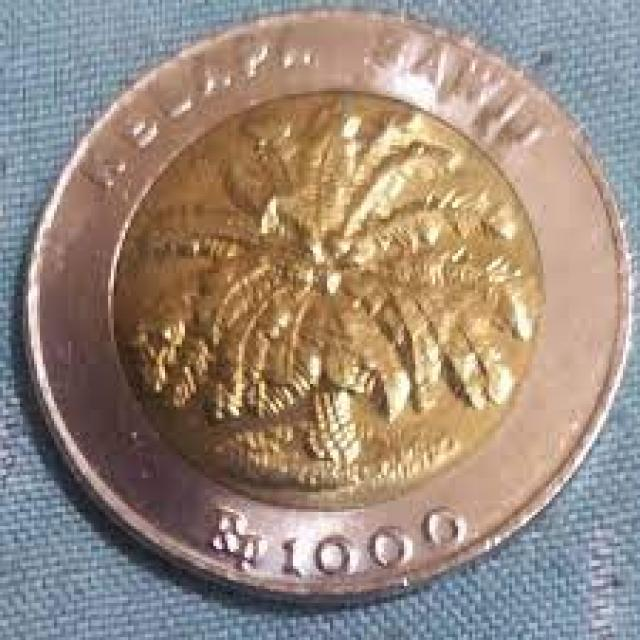1000-sawit: (20, 9, 633, 614)
